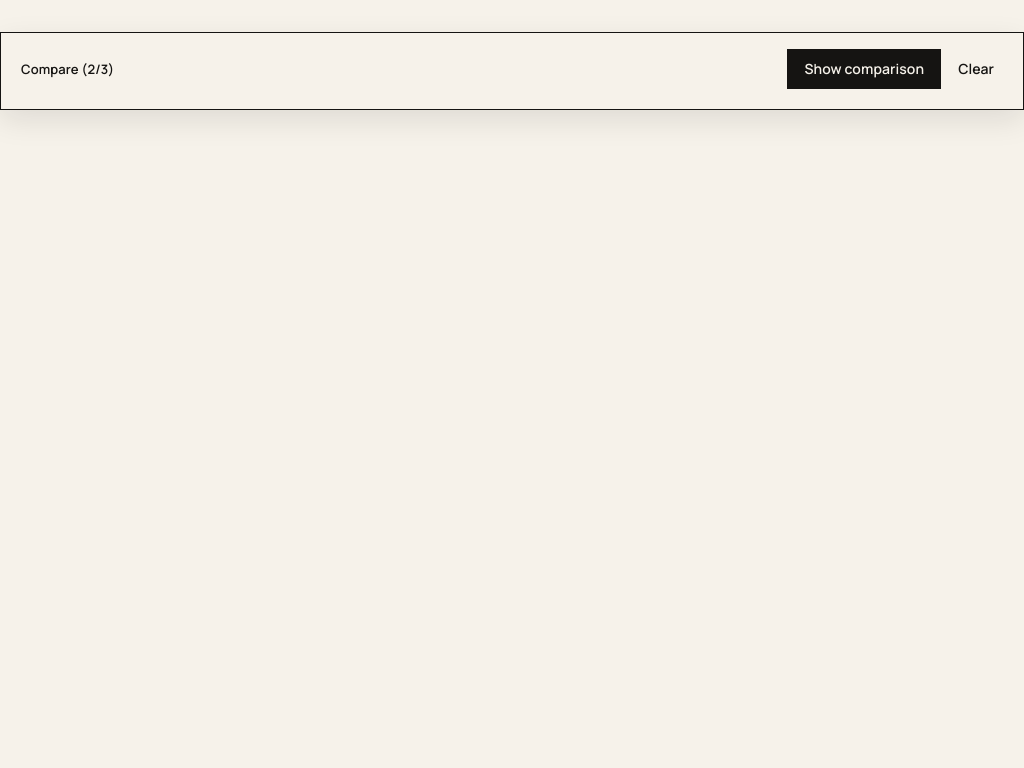
Test case: ComparePanel › compares homes across compounds side by side
The width and height of the screenshot is (1024, 768).
Later steps or results of the test are not shown.
Check: the element "Compare" is shown, box [0,32,1023,110]
Check: the heading "Compare (2/3)" is shown, box [21,60,114,77]
Click the button "Show comparison" at (864, 69), box [788,49,941,89]
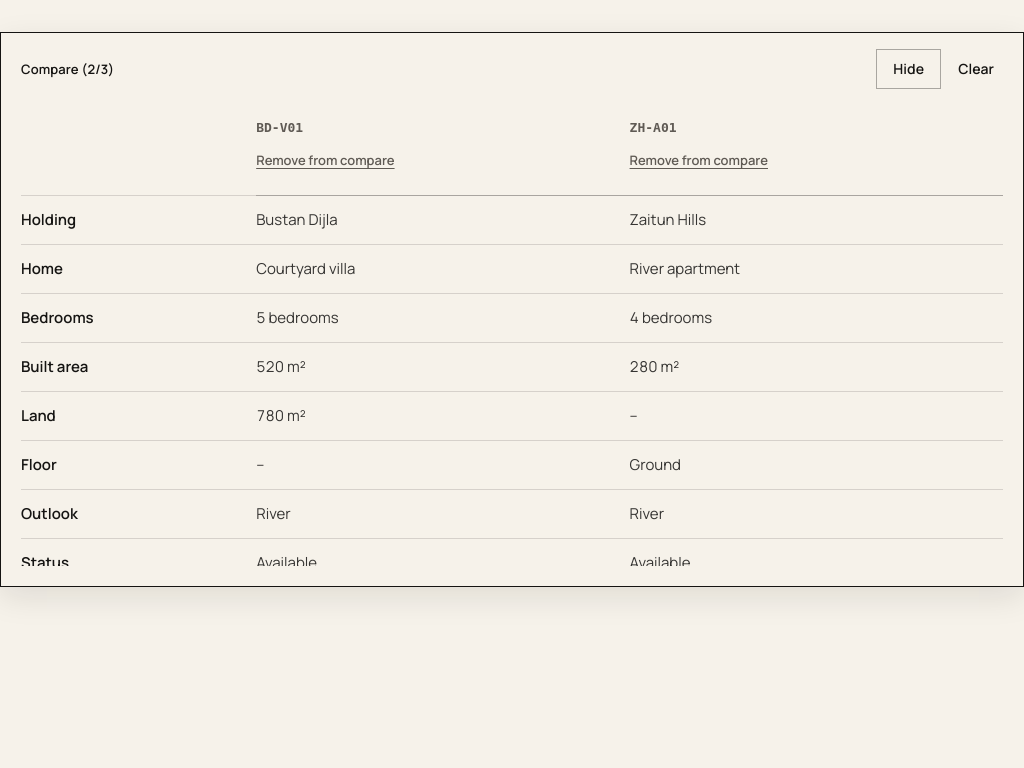
Check: the button "Hide" is expanded, box [876,49,941,89]
Check: the row "Holding Bustan Dijla Zaitun Hills" is shown, box [21,195,1003,244]
